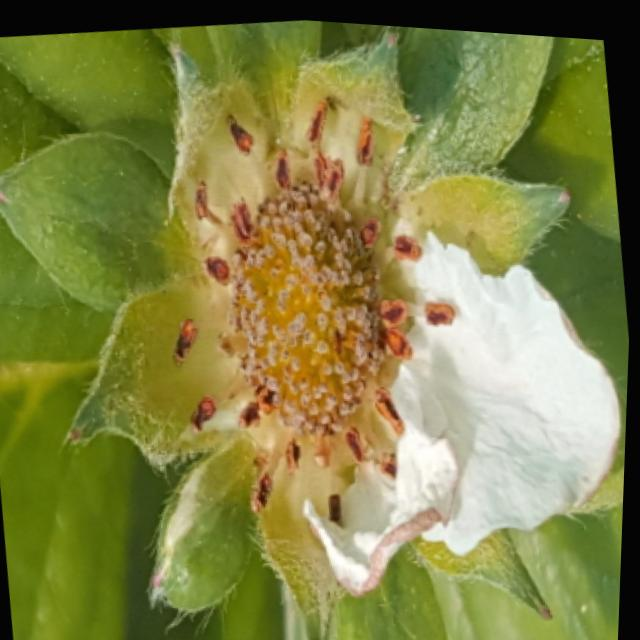Blossom Blight: (163, 91, 465, 525)
